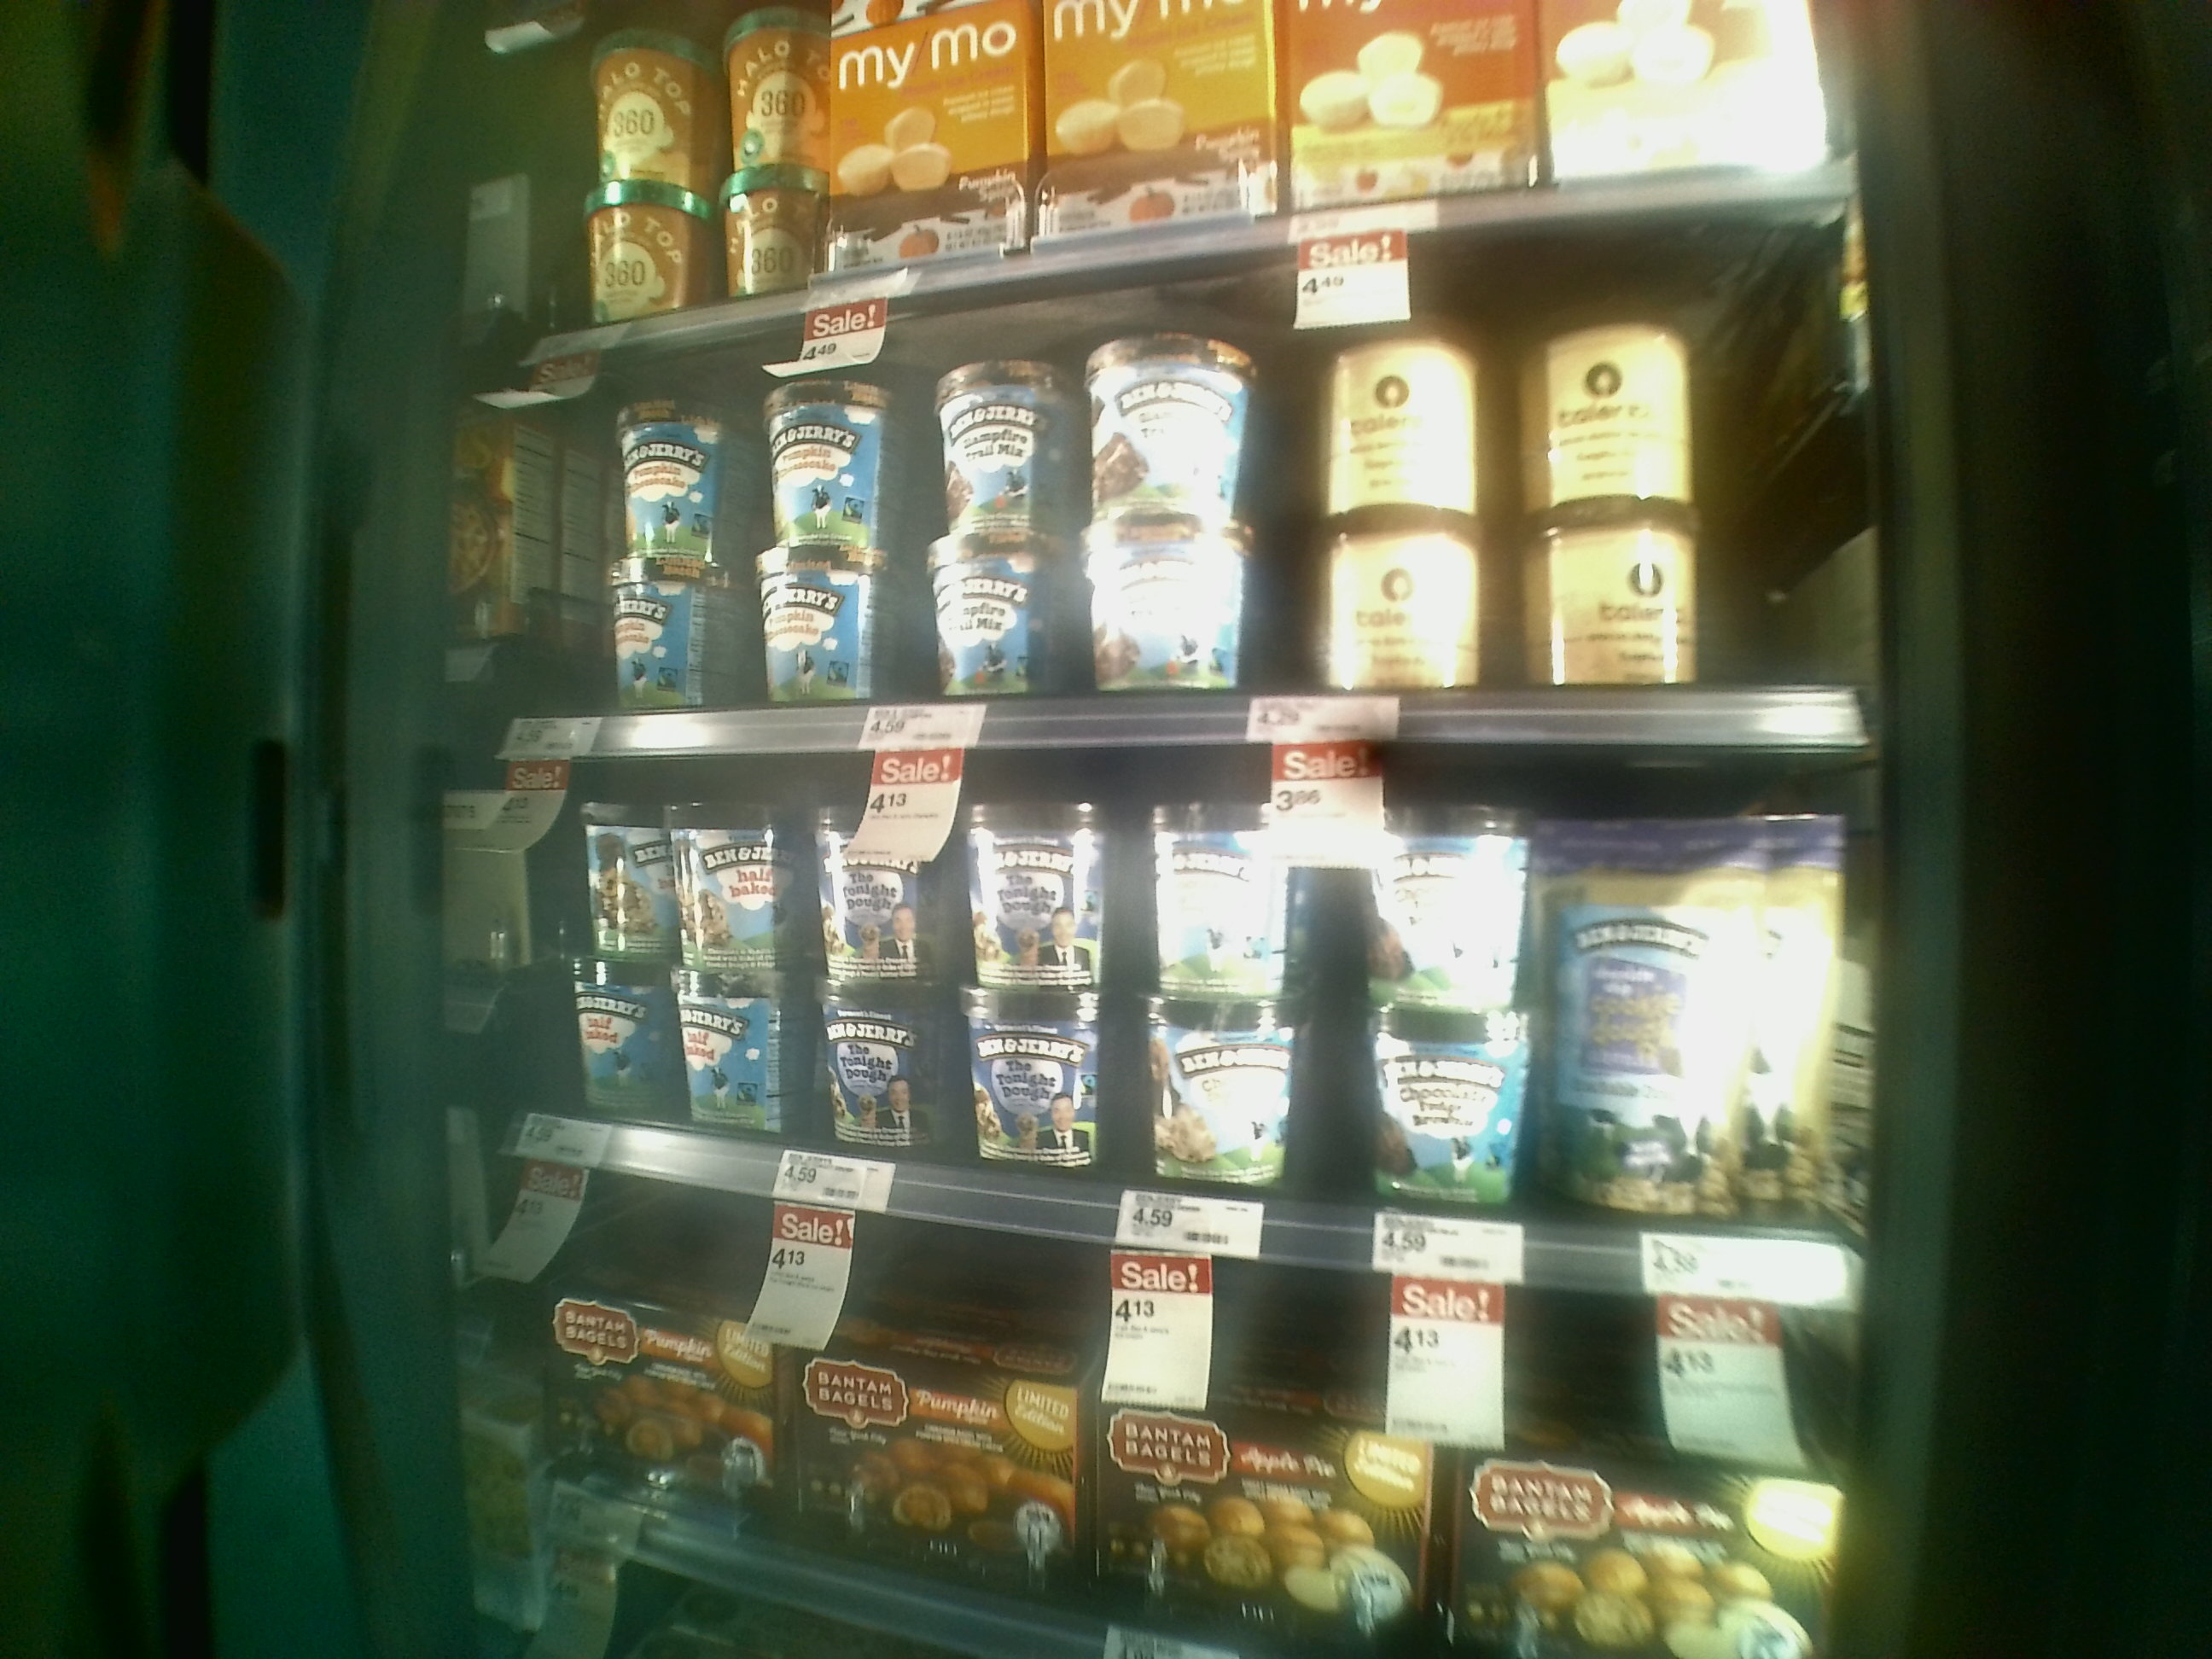shelf: (415, 749, 1871, 1309), (435, 368, 1876, 746)
